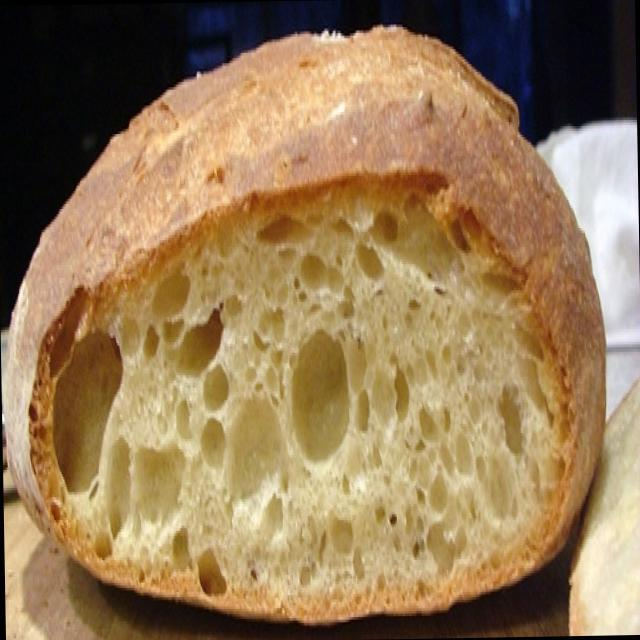Bread: (0, 14, 604, 631)
